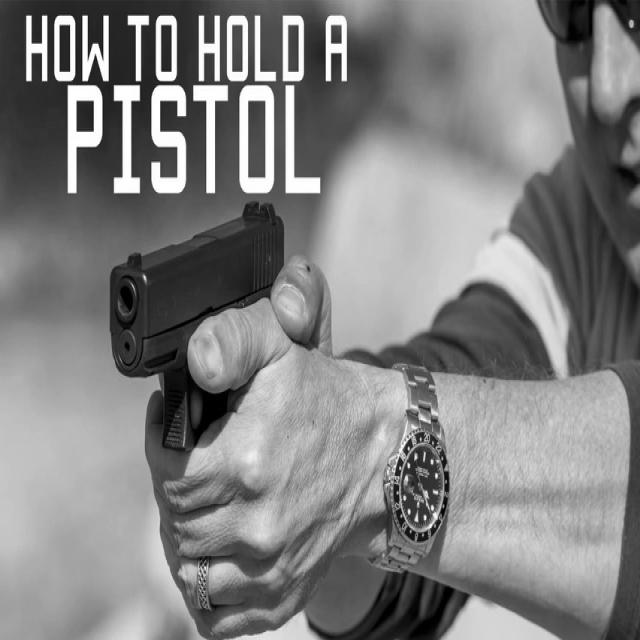Hand-Gun: (70, 180, 314, 556)
